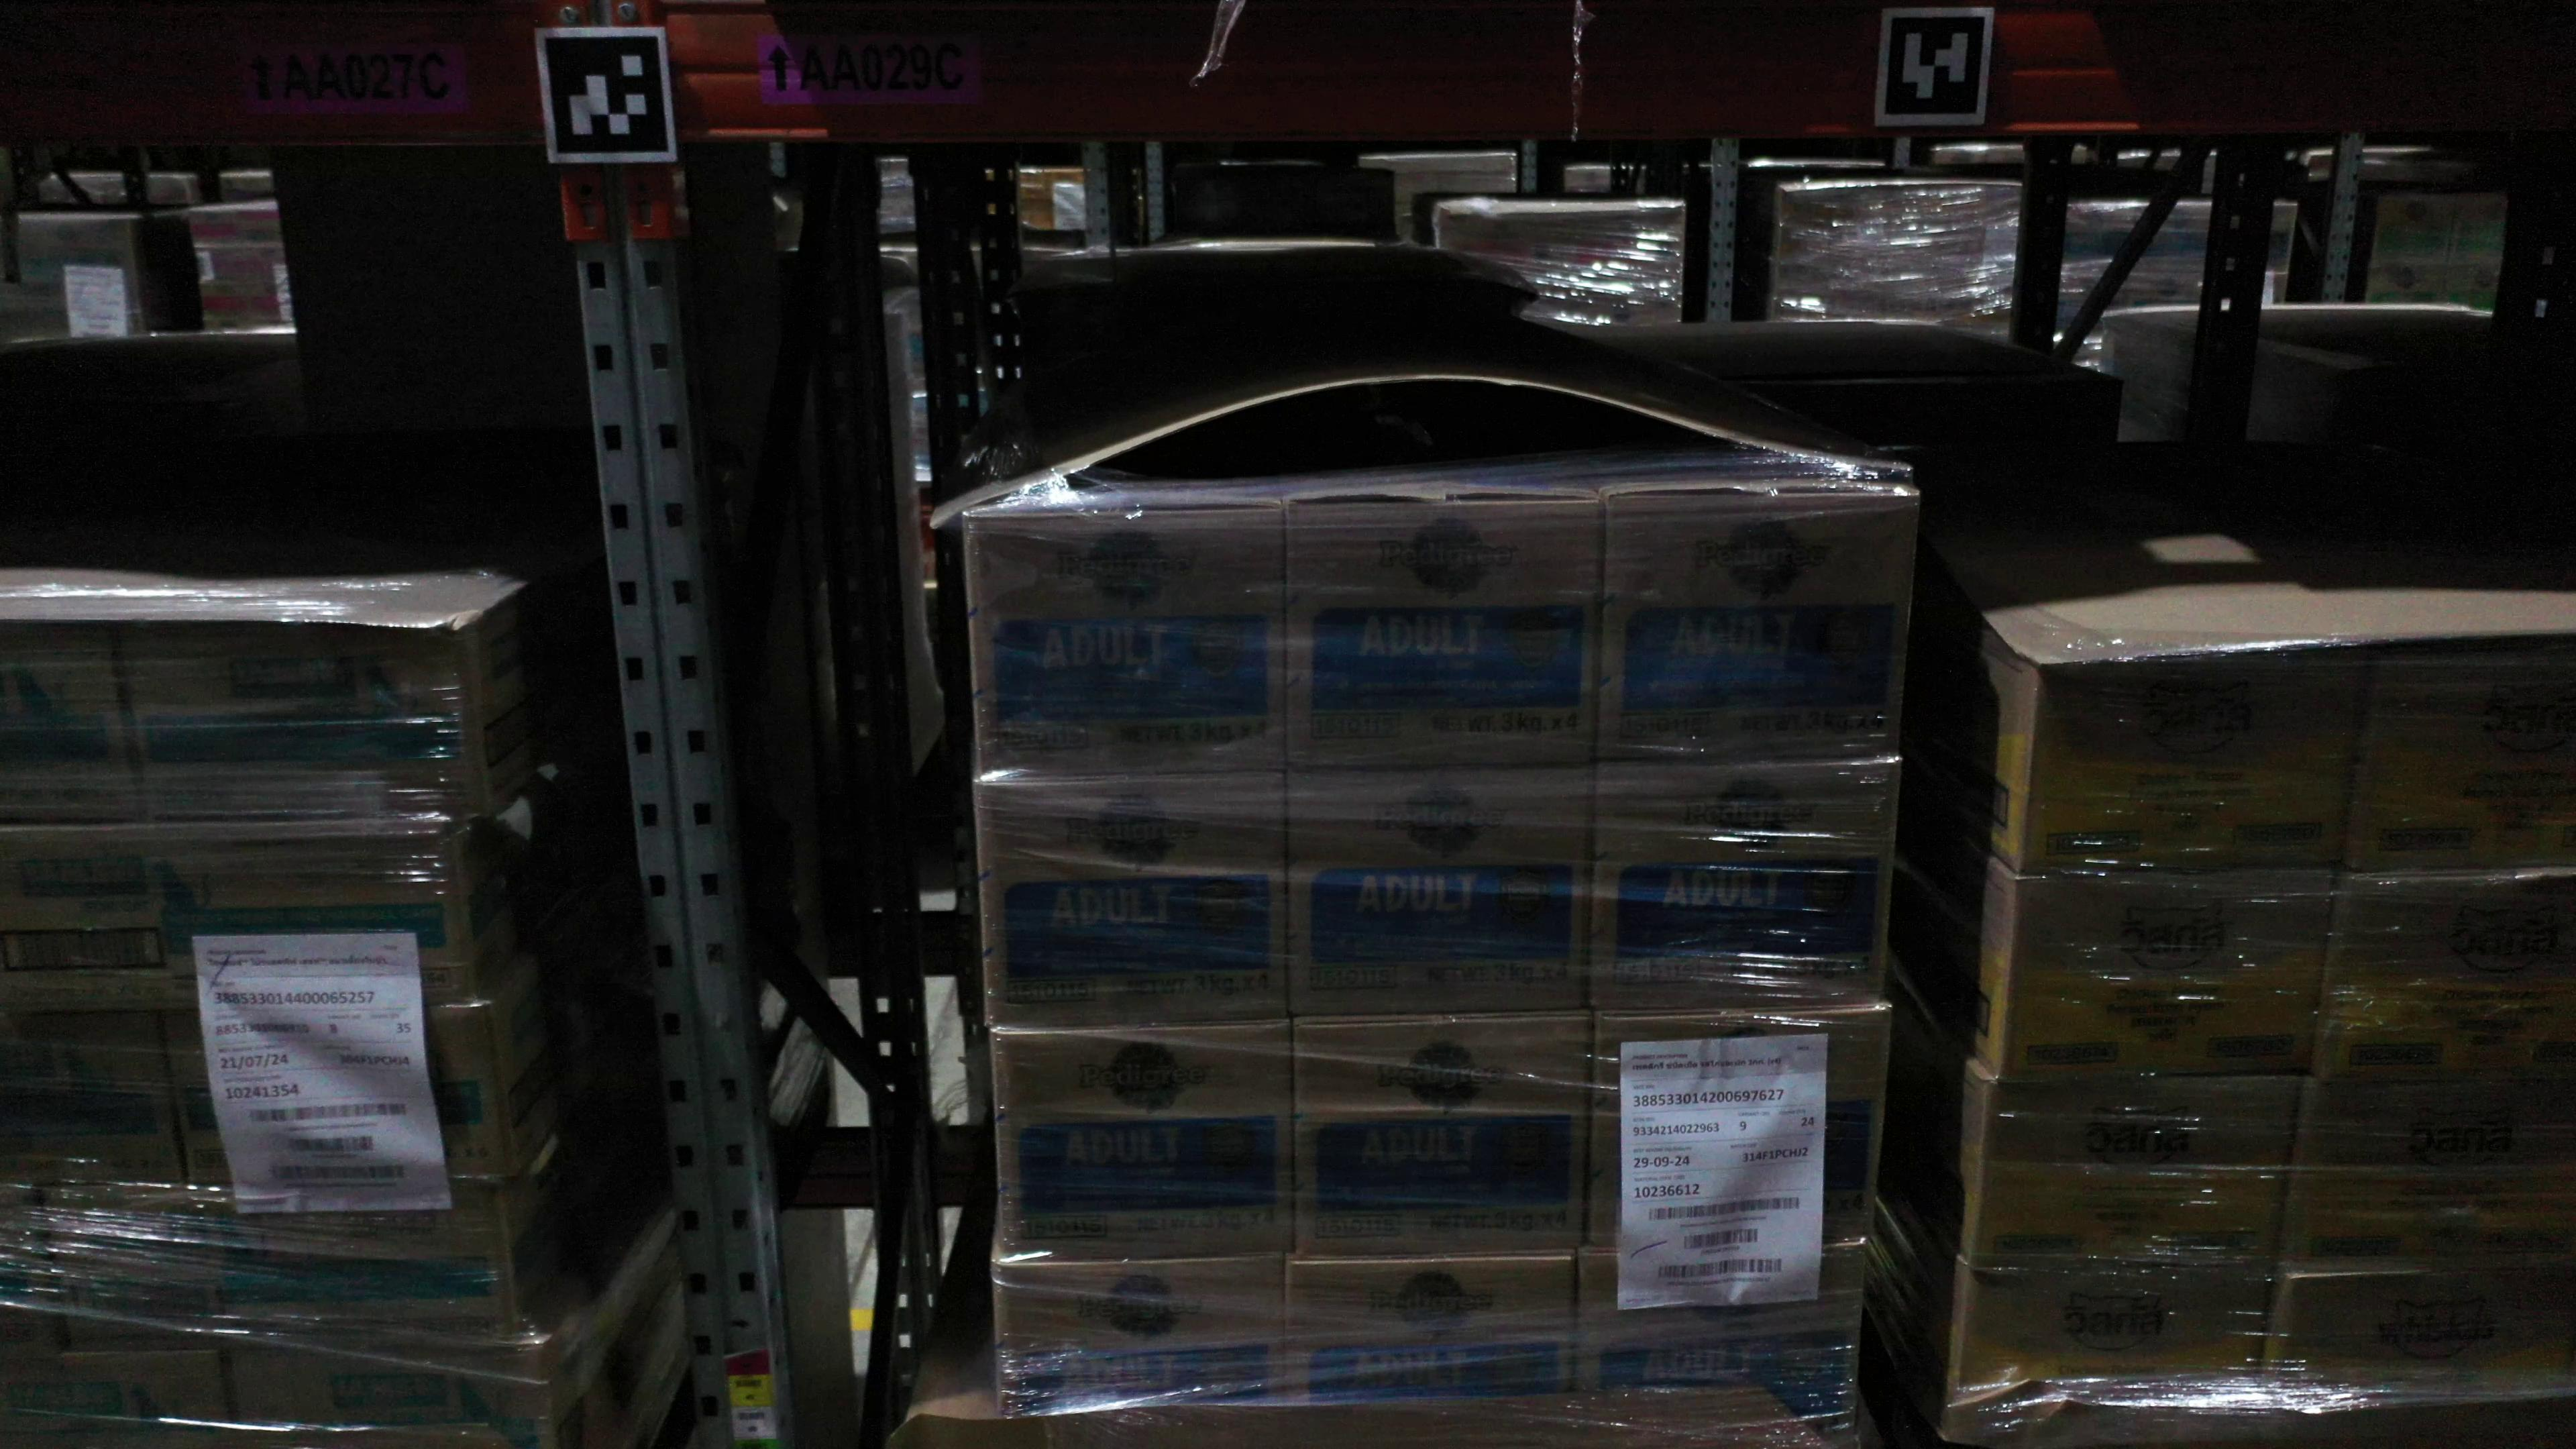-: (0, 819, 474, 1010), (1599, 490, 1921, 768), (966, 506, 1290, 780), (1283, 499, 1605, 770), (42, 1180, 518, 1353), (975, 773, 1293, 1028), (1587, 761, 1898, 1014), (1573, 1008, 1891, 1254), (1290, 768, 1594, 1023), (1290, 1016, 1599, 1265), (2024, 653, 2371, 874), (117, 619, 488, 824), (994, 1023, 1295, 1263), (1999, 872, 2337, 1083), (163, 1000, 508, 1189), (1974, 1076, 2302, 1270), (1573, 1247, 1865, 1449), (2311, 870, 2576, 1090), (2279, 1083, 2576, 1272), (2346, 651, 2576, 874), (993, 1256, 1288, 1421), (1283, 1256, 1575, 1412), (2263, 1270, 2576, 1401), (1955, 1269, 2272, 1398), (223, 1341, 557, 1449), (2, 1003, 189, 1189), (0, 619, 150, 828), (0, 1345, 241, 1447), (0, 1185, 62, 1350)
